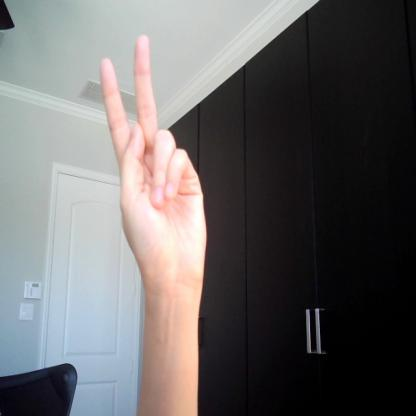K: (99, 33, 211, 287)
